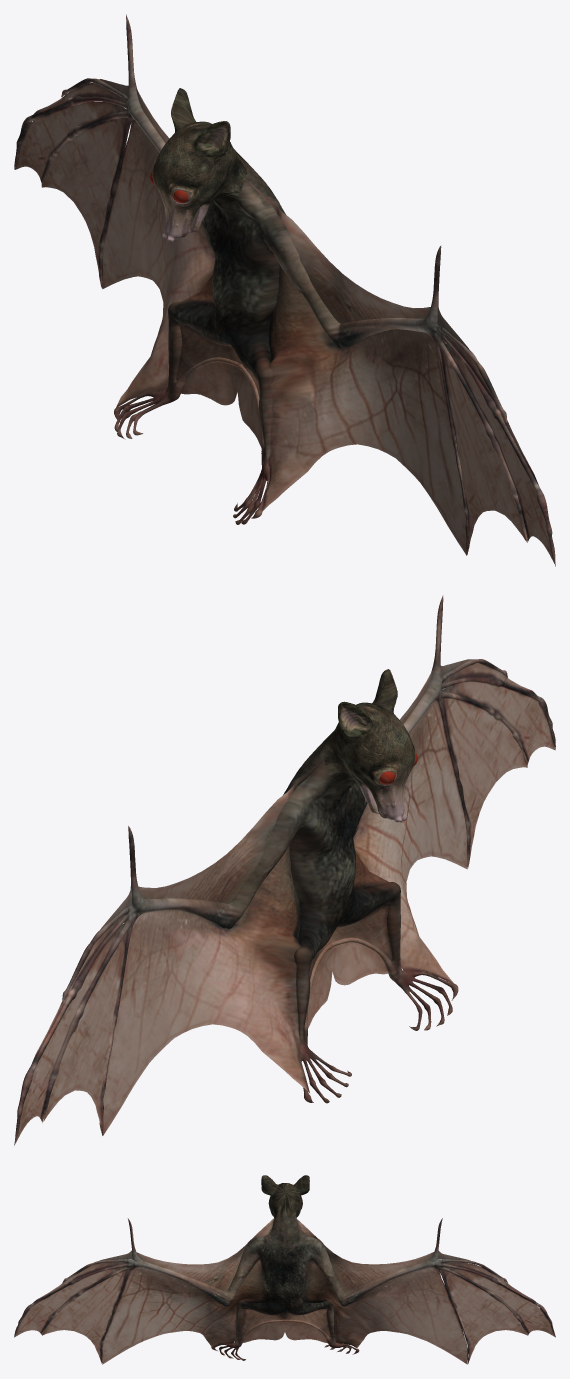
Rendered from bat.glb.
The picture shows the model from 3 angles, top to bottom: view 1: azimuth 30°, elevation 25°; view 2: azimuth 150°, elevation 25°; view 3: azimuth 270°, elevation 25°; orthographic projection. The views are drawn at different scales.
Visible parts, largest first — view 1: 3DSMeshMatrix (×7); view 2: 3DSMeshMatrix (×7); view 3: 3DSMeshMatrix (×6).
Part boxes in pixels (left/top/right/bottom): 3DSMeshMatrix (×7): left=14, top=14, right=555, bottom=566; 3DSMeshMatrix (×7): left=14, top=595, right=555, bottom=1145; 3DSMeshMatrix (×6): left=14, top=1175, right=555, bottom=1364.
Bounding box in the file's own units: 1656 × 4474 × 11705.
Materials: 4 (4 with a texture image).
